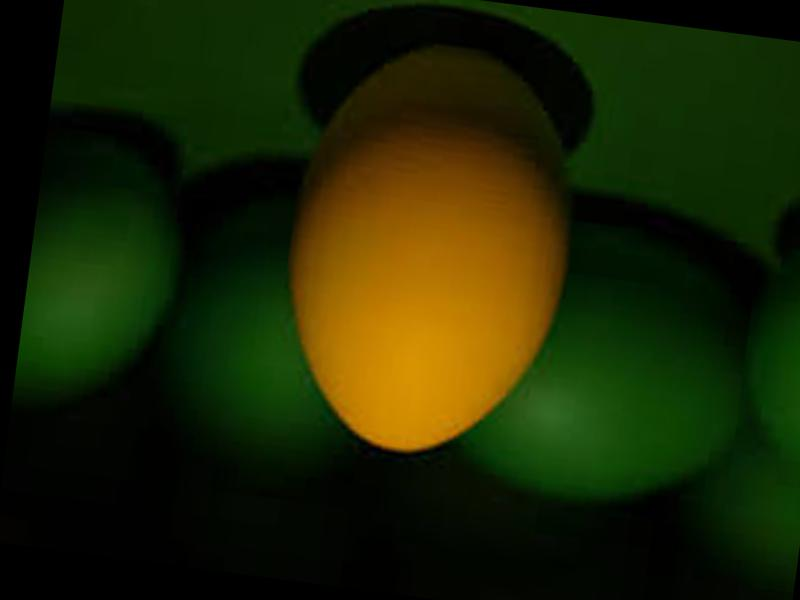Eggs: (266, 28, 593, 467)
